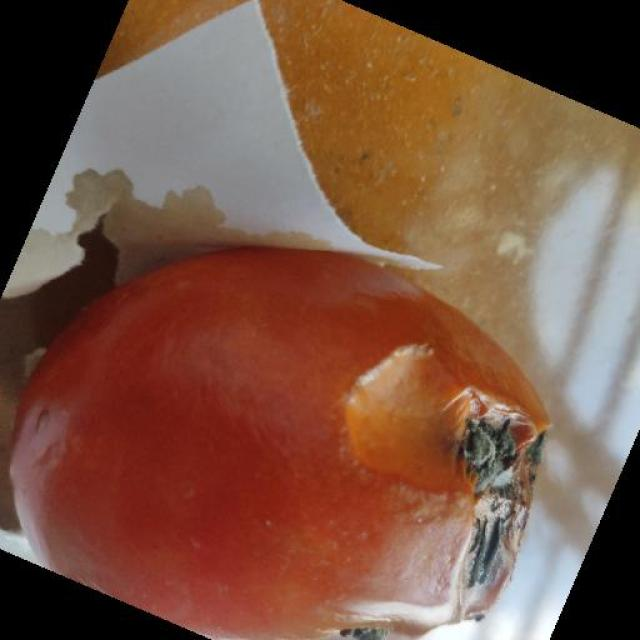Stale_tomato: (34, 203, 556, 640)
